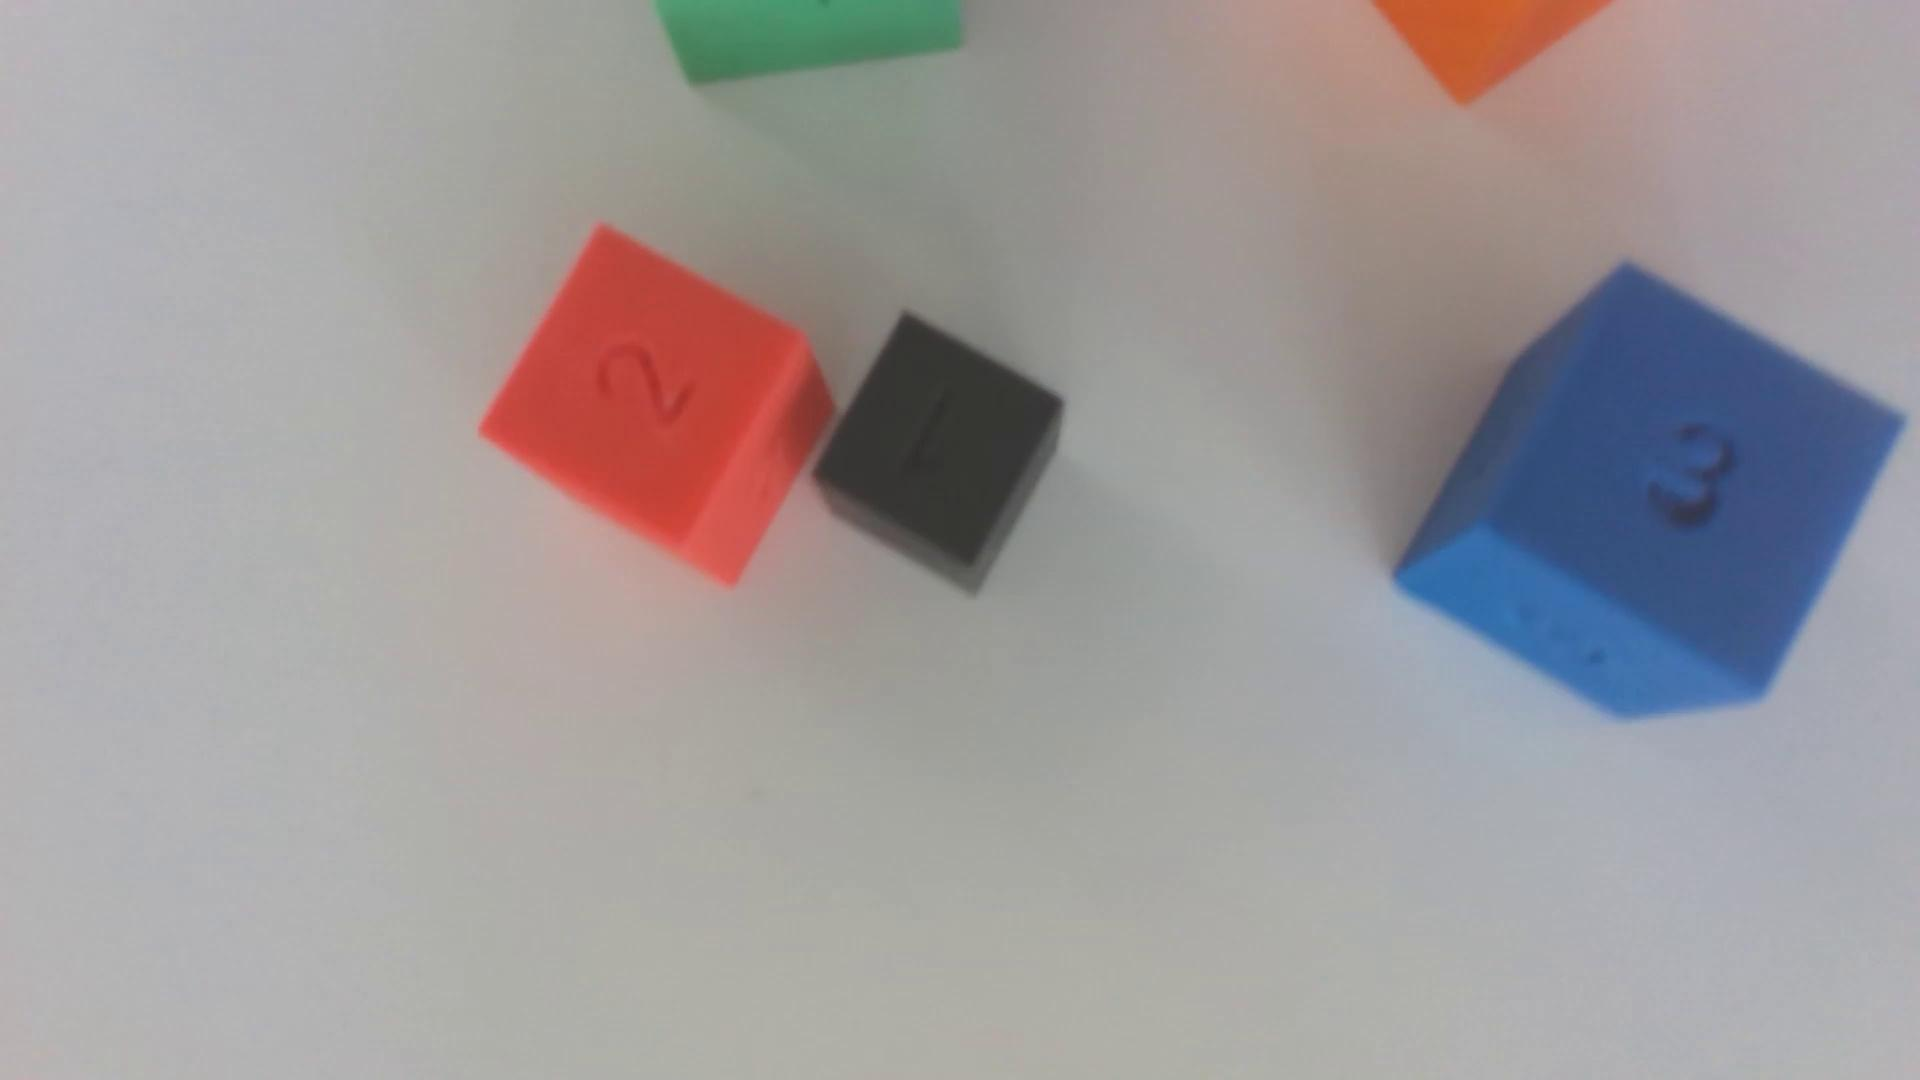black: (814, 313, 1065, 592)
blue: (1393, 265, 1904, 717)
green: (655, 0, 963, 84)
orange: (1374, 0, 1611, 103)
red: (481, 225, 835, 585)
